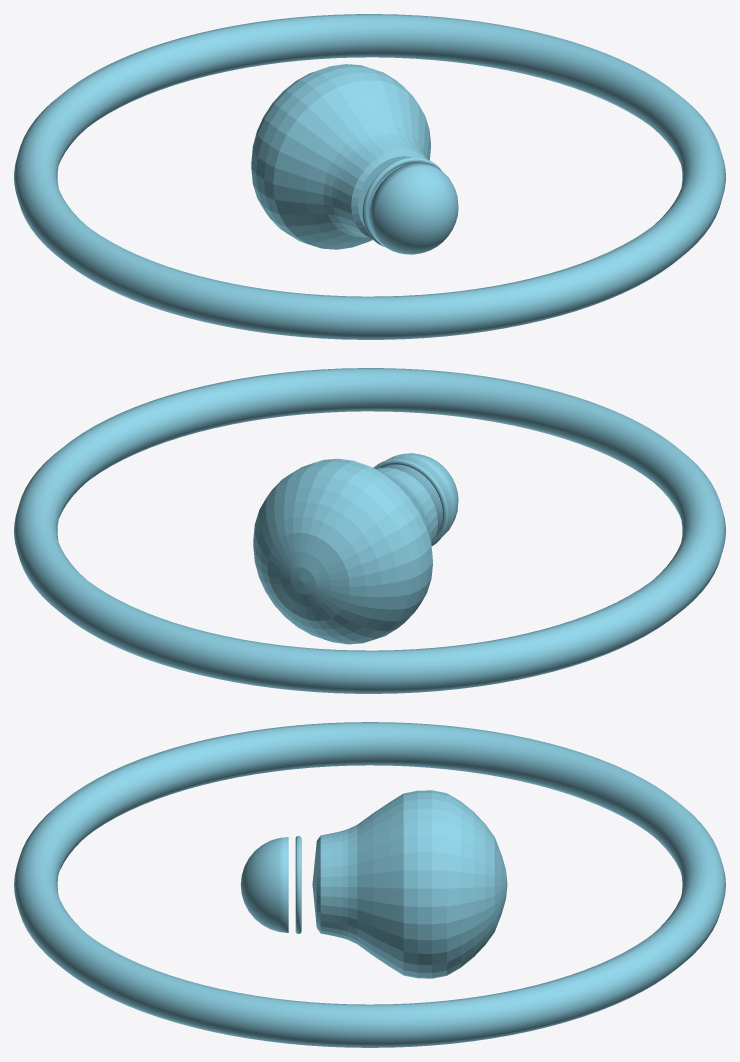
3 renders of one model, top to bottom at view 1: azimuth 30°, elevation 25°; view 2: azimuth 150°, elevation 25°; view 3: azimuth 270°, elevation 25°, orthographic.
Visible parts, largest first — view 1: 环体.002, 球体, 球体.001, 环体.003; view 2: 环体.002, 球体, 球体.001, 环体.003; view 3: 环体.002, 球体, 球体.001, 环体.003.
Boxes of the visible parts, bbox=[...] form: 环体.002: bbox=[14, 14, 725, 339]; 球体: bbox=[251, 64, 430, 249]; 球体.001: bbox=[369, 162, 458, 254]; 环体.003: bbox=[362, 157, 440, 246]; 环体.002: bbox=[14, 368, 725, 693]; 球体: bbox=[253, 458, 437, 644]; 球体.001: bbox=[384, 453, 458, 536]; 环体.003: bbox=[373, 459, 448, 545]; 环体.002: bbox=[14, 722, 725, 1047]; 球体: bbox=[312, 790, 507, 978]; 球体.001: bbox=[240, 837, 288, 932]; 环体.003: bbox=[295, 836, 301, 933].
Size of the model in its own units: 9.48 by 2.51 by 9.48.
